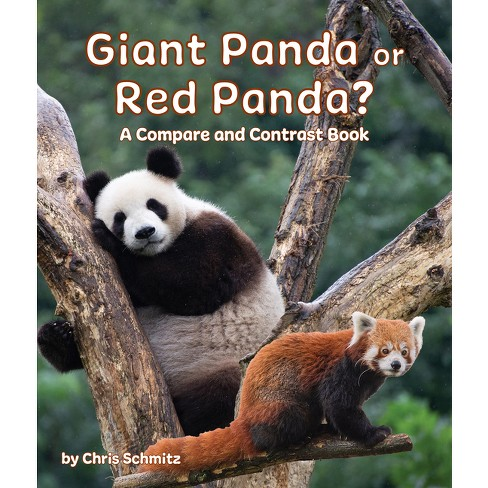Giant panda: (79, 146, 192, 257)
Red panda: (349, 309, 426, 377)
